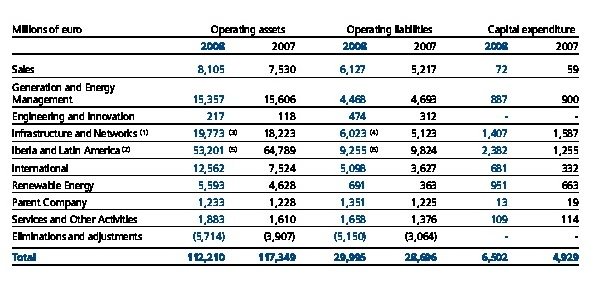table: (0, 0, 593, 282)
